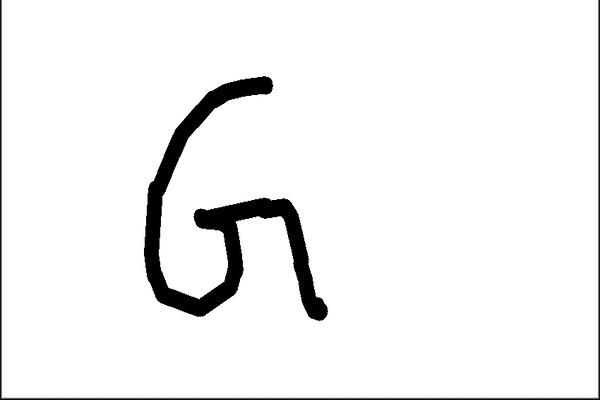G: (137, 70, 333, 326)
